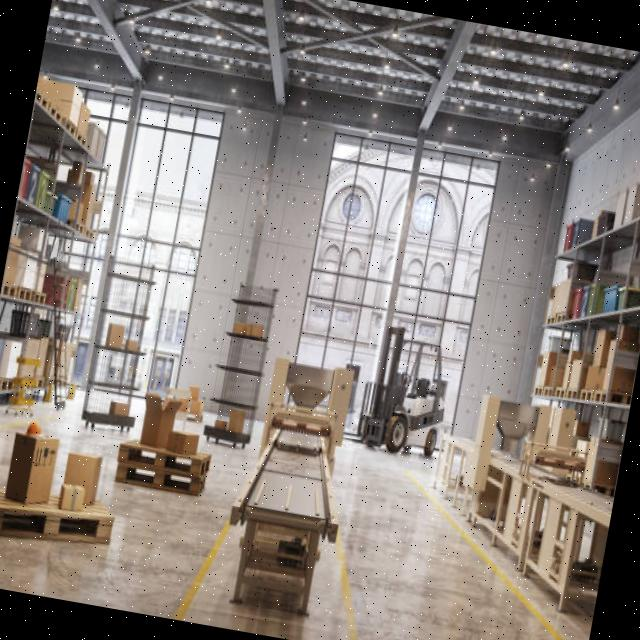Wooden-Pallets: (106, 438, 209, 488), (110, 456, 201, 508), (0, 513, 116, 551)
